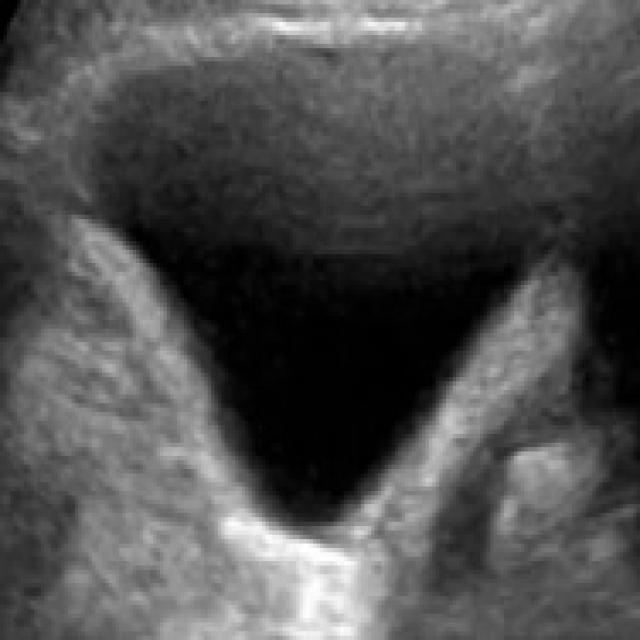bladder: (28, 10, 581, 612)
